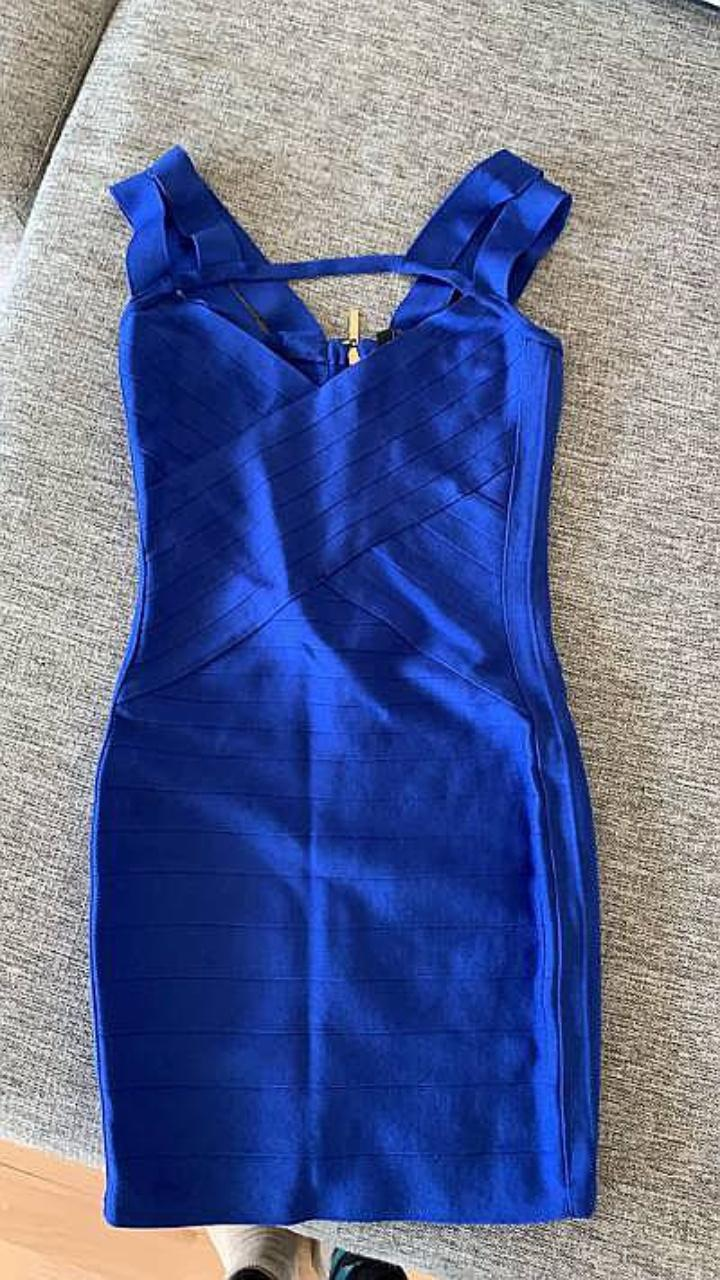Dresses: (90, 146, 599, 1226)
